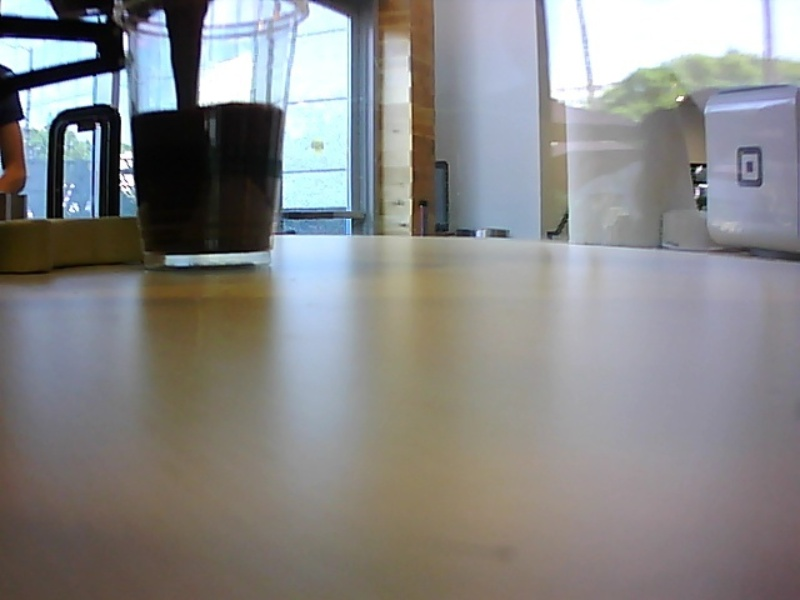cup: (108, 1, 313, 271)
limit: (128, 95, 291, 127)
